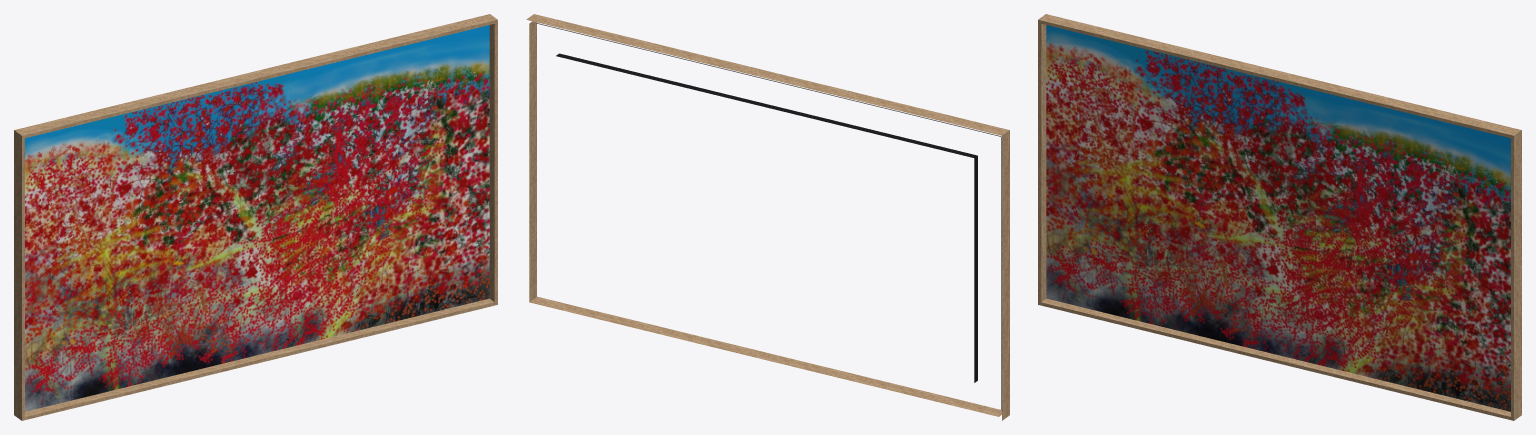
The model's file is hz028_grand_caisse-chene.glb.
The picture shows the model from 3 angles, left to right: view 1: azimuth 30°, elevation 25°; view 2: azimuth 150°, elevation 25°; view 3: azimuth 330°, elevation 25°; orthographic projection.
Parts seen in each view (by area): view 1: hz028_grand_caisse-chene; view 2: hz028_grand_caisse-chene; view 3: hz028_grand_caisse-chene.
Boxes of the visible parts, bbox=[...] form: hz028_grand_caisse-chene: bbox=[14, 14, 497, 420]; hz028_grand_caisse-chene: bbox=[526, 14, 1009, 420]; hz028_grand_caisse-chene: bbox=[1038, 14, 1521, 420].
Size of the model in its own units: 1.23 by 0.703 by 0.035.
Materials: 4 (2 with a texture image).
